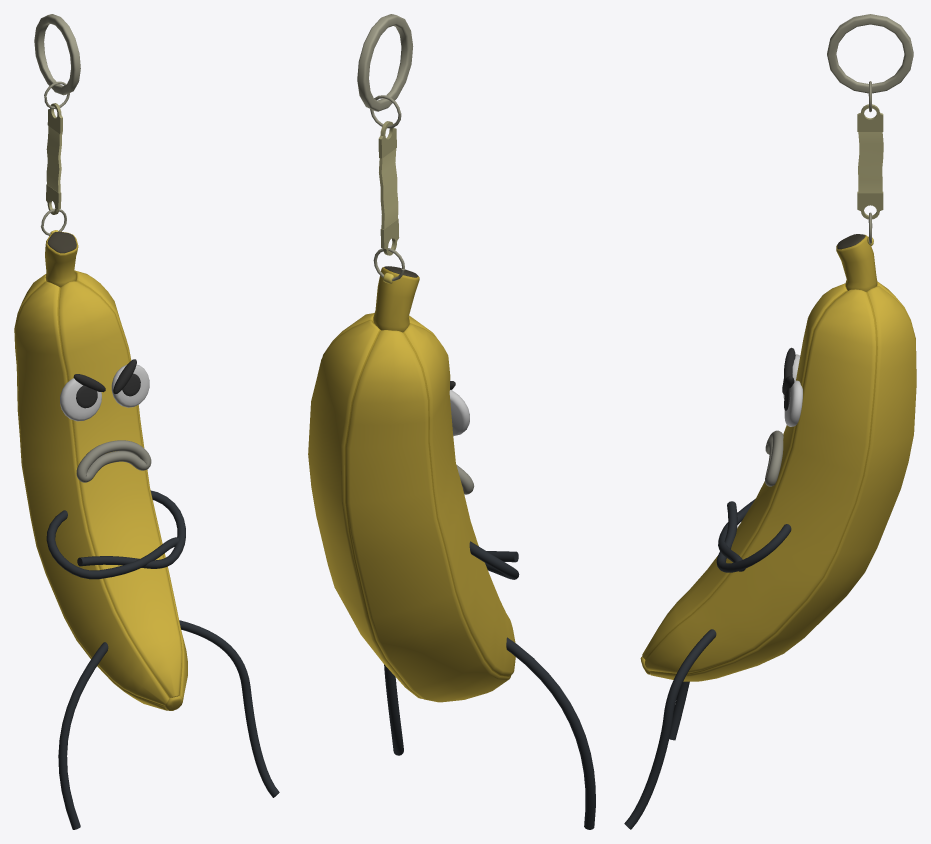
File: banana.fbx
3 renders of one model, left to right at view 1: azimuth 30°, elevation 25°; view 2: azimuth 150°, elevation 25°; view 3: azimuth 270°, elevation 25°, orthographic. The views are drawn at different scales.
Parts seen in each view (by area): view 1: Cylinder, BezierCurve.003, BezierCurve.002, BezierCircle, BezierCurve, Circle, BezierCurve.001, Cylinder.003, Cylinder.002, Cylinder.005, Plane.001, Plane (+1 smaller); view 2: Cylinder, Circle, BezierCurve.002, Cylinder.002, Plane.001, Plane, BezierCurve.003, BezierCurve, Cylinder.003, Torus; view 3: Cylinder, Circle, BezierCurve.003, Plane.001, Cylinder.002, BezierCurve.001, Plane, BezierCircle, Cylinder.005.
Part boxes in pixels (bbox=[...]): Cylinder: bbox=[14, 270, 187, 710]; BezierCurve.003: bbox=[179, 620, 279, 797]; BezierCurve.002: bbox=[58, 642, 108, 829]; BezierCircle: bbox=[76, 440, 151, 482]; BezierCurve: bbox=[46, 510, 178, 579]; Circle: bbox=[34, 14, 80, 95]; BezierCurve.001: bbox=[77, 490, 185, 568]; Cylinder.003: bbox=[60, 378, 101, 421]; Cylinder.002: bbox=[45, 231, 78, 287]; Cylinder.005: bbox=[111, 364, 149, 407]; Plane.001: bbox=[46, 126, 62, 192]; Plane: bbox=[46, 103, 62, 214]; Cylinder: bbox=[308, 313, 515, 702]; Circle: bbox=[357, 14, 413, 111]; BezierCurve.002: bbox=[506, 637, 595, 829]; Cylinder.002: bbox=[373, 267, 419, 332]; Plane.001: bbox=[379, 148, 398, 228]; Plane: bbox=[378, 121, 399, 255]; BezierCurve.003: bbox=[384, 664, 403, 755]; BezierCurve: bbox=[469, 541, 519, 579]; Cylinder.003: bbox=[449, 390, 469, 436]; Torus: bbox=[370, 95, 404, 280]; Cylinder: bbox=[642, 281, 916, 681]; Circle: bbox=[827, 14, 913, 93]; BezierCurve.003: bbox=[624, 629, 716, 829]; Plane.001: bbox=[858, 132, 883, 193]; Cylinder.002: bbox=[836, 234, 877, 291]; BezierCurve.001: bbox=[716, 501, 791, 572]; Plane: bbox=[857, 104, 883, 219]; BezierCircle: bbox=[765, 430, 783, 486]; Cylinder.005: bbox=[784, 380, 802, 426].
Bounding box in the file's own units: 150 × 540 × 187.
